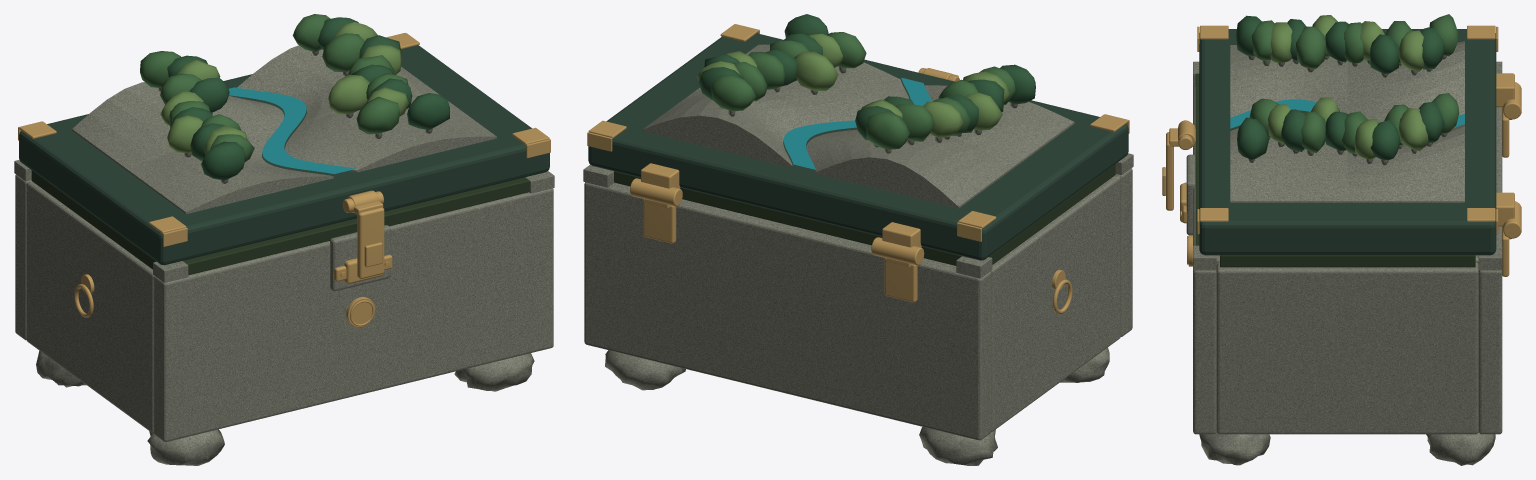
The model's file is honduras.glb.
3 renders of one model, left to right at view 1: azimuth 30°, elevation 25°; view 2: azimuth 150°, elevation 25°; view 3: azimuth 270°, elevation 25°, orthographic. The views are drawn at different scales.
Visible parts, largest first — view 1: Granite / long wall, Lid / polished slab, Granite / side wall, Terrain / wooded bank -1, Terrain / wooded bank 1, Mineral seam / long, River / continuous meander, Granite foot, Granite / long wall.001, Granite foot.002, Latch / lifting hasp, Granite / clasp seat (+16 smaller); view 2: Granite / long wall.001, Lid / polished slab, Granite / side wall, Terrain / wooded bank -1, Terrain / wooded bank 1, Mineral seam / long.001, Granite foot.001, Granite / long wall, Granite foot.003, River / continuous meander, Mineral seam / side, Rainforest / canopy.019 (+20 smaller); view 3: Granite / side wall.001, Lid / polished slab, Terrain / wooded bank 1, Terrain / wooded bank -1, Granite / long wall.001, Granite / long wall, Mineral seam / side.001, Granite foot.002, Granite foot.003, Rainforest / canopy.014, Rainforest / canopy.004, Rainforest / canopy.025 (+37 smaller).
Boxes of the visible parts, x1,y1,x2,y2 form: Granite / long wall: (154, 188, 553, 441); Lid / polished slab: (19, 45, 549, 265); Granite / side wall: (26, 181, 154, 433); Terrain / wooded bank -1: (72, 82, 333, 213); Terrain / wooded bank 1: (237, 45, 496, 172); Mineral seam / long: (183, 177, 529, 275); River / continuous meander: (228, 87, 355, 174); Granite foot: (147, 429, 224, 465); Granite / long wall.001: (15, 174, 31, 340); Granite foot.002: (454, 353, 534, 391); Latch / lifting hasp: (357, 207, 384, 278); Granite / clasp seat: (330, 225, 390, 291); Granite / long wall.001: (584, 182, 991, 440); Lid / polished slab: (588, 33, 1128, 260); Granite / side wall: (990, 175, 1120, 431); Terrain / wooded bank -1: (806, 85, 1074, 208); Terrain / wooded bank 1: (642, 44, 909, 167); Mineral seam / long.001: (614, 171, 961, 265); Granite foot.001: (919, 427, 997, 465); Granite / long wall: (1115, 168, 1132, 336); Granite foot.003: (605, 350, 685, 390); River / continuous meander: (783, 77, 931, 169); Mineral seam / side: (989, 164, 1115, 264); Rainforest / canopy.019: (794, 51, 838, 90); Granite / side wall.001: (1216, 262, 1478, 434); Lid / polished slab: (1199, 29, 1496, 255); Terrain / wooded bank 1: (1230, 113, 1464, 202); Terrain / wooded bank -1: (1230, 41, 1464, 122); Granite / long wall.001: (1478, 107, 1502, 434); Granite / long wall: (1193, 86, 1216, 434); Mineral seam / side.001: (1220, 255, 1475, 267); Granite foot.002: (1199, 432, 1270, 465); Granite foot.003: (1426, 432, 1495, 465); Rainforest / canopy.014: (1237, 117, 1269, 159); Rainforest / canopy.004: (1296, 26, 1326, 68); Rainforest / canopy.025: (1399, 108, 1428, 151).
Bounding box in the file's own units: 3.79 × 2.89 × 2.88.
8 materials, 1 textured.
